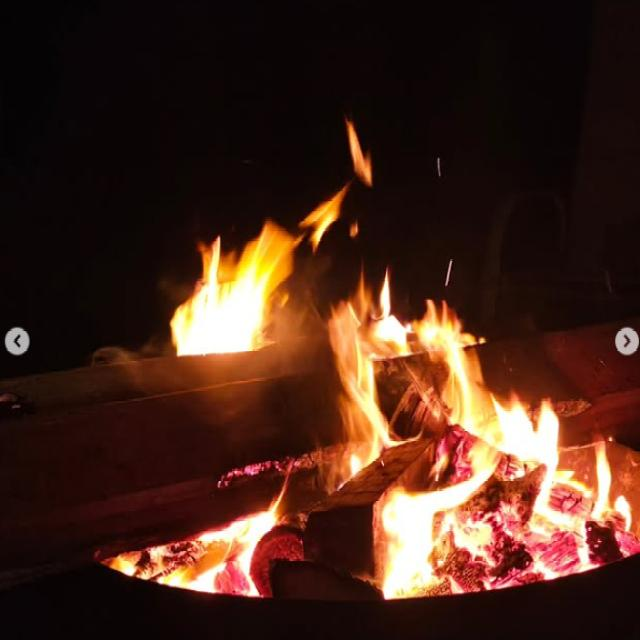fire: (350, 438, 640, 600), (325, 260, 418, 496), (101, 483, 277, 598), (419, 300, 559, 439), (170, 220, 303, 357), (217, 449, 325, 511), (303, 184, 352, 252), (345, 119, 372, 187)
